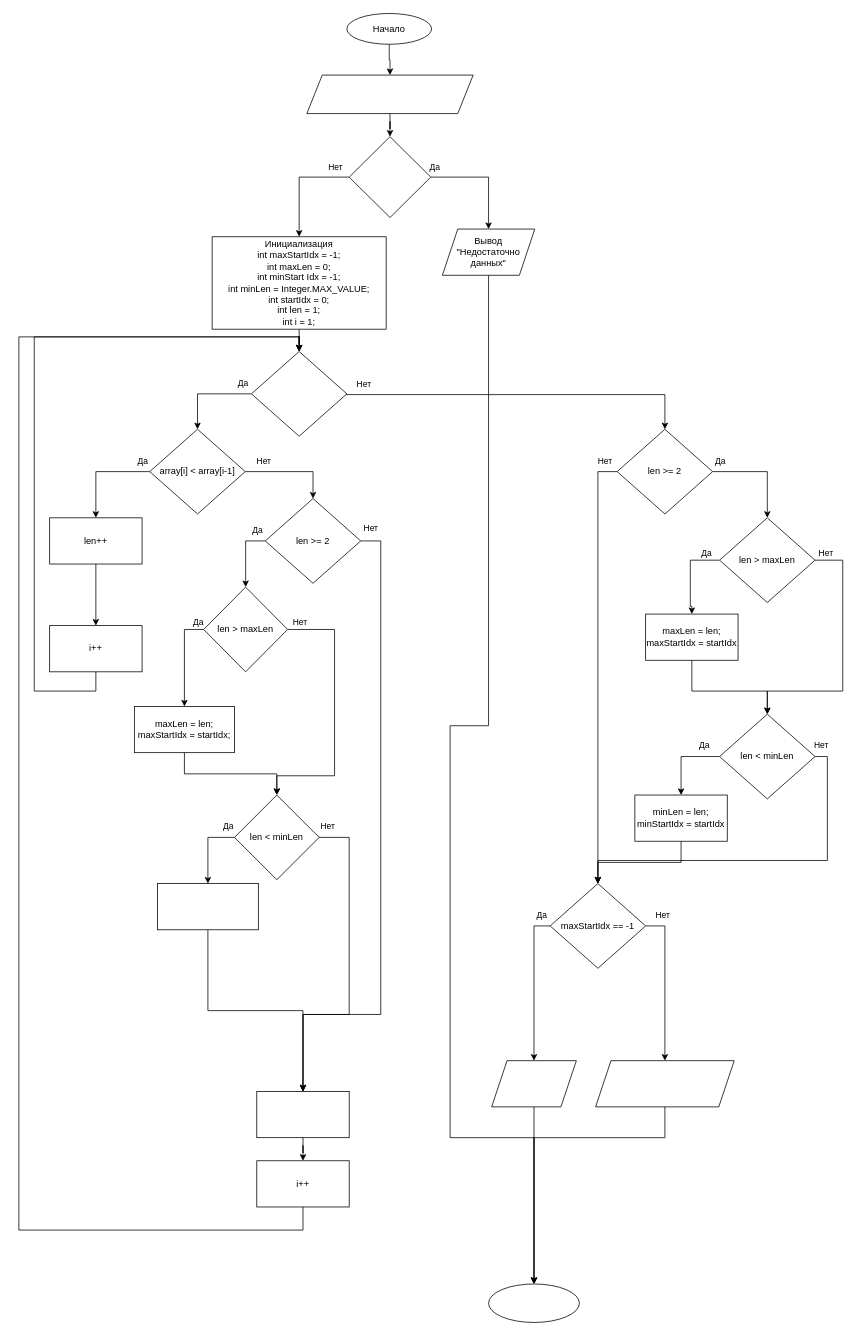
This 862x1336 diagram has some shape labels left out. Each missing label, with the centre of its shape:
array == null || length < 2: point 389,177
i < array.length: point 299,393
minLen = len; minStartIdx = startIdx;: point 207,906
startIdx = i; len = 1;: point 302,1114
Ввод int[] array: point 389,94
Вывод "Серии отсутствуют": point 533,1083
Вывод Самая длинная серия Самая коротка серия: point 664,1083
Конец: point 533,1302
